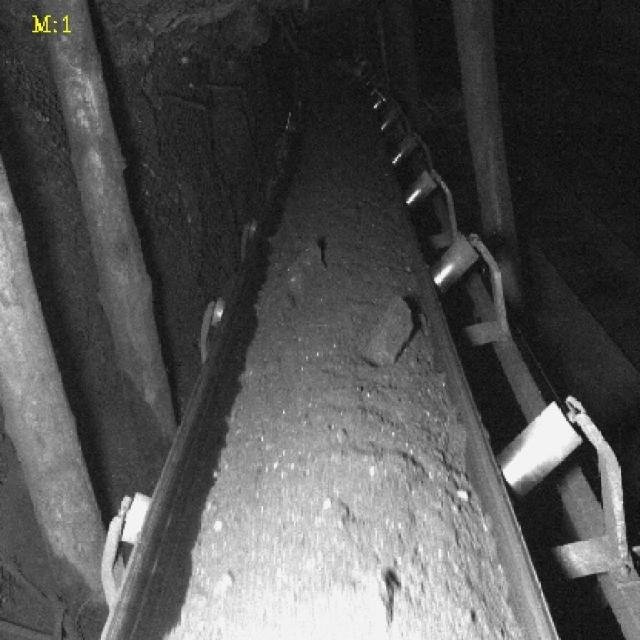large_sized_coal: (363, 296, 415, 364), (279, 237, 323, 300)
